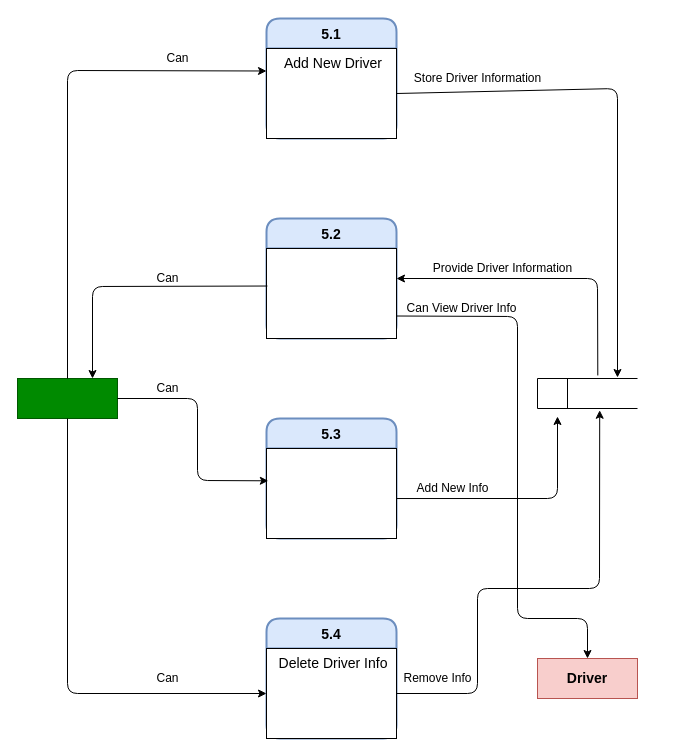
The diagram is 681 pixels wide and 756 high, and some of its shapes have lost their labels. Here are the shapes that lost their labels. From the top down, the centre of each, then its label:
At (x=331, y=293): "View Driver Info".
At (x=67, y=398): "Admin".
At (x=587, y=393): "D1 TSM Database".
At (x=331, y=493): "Update Driver Info".
